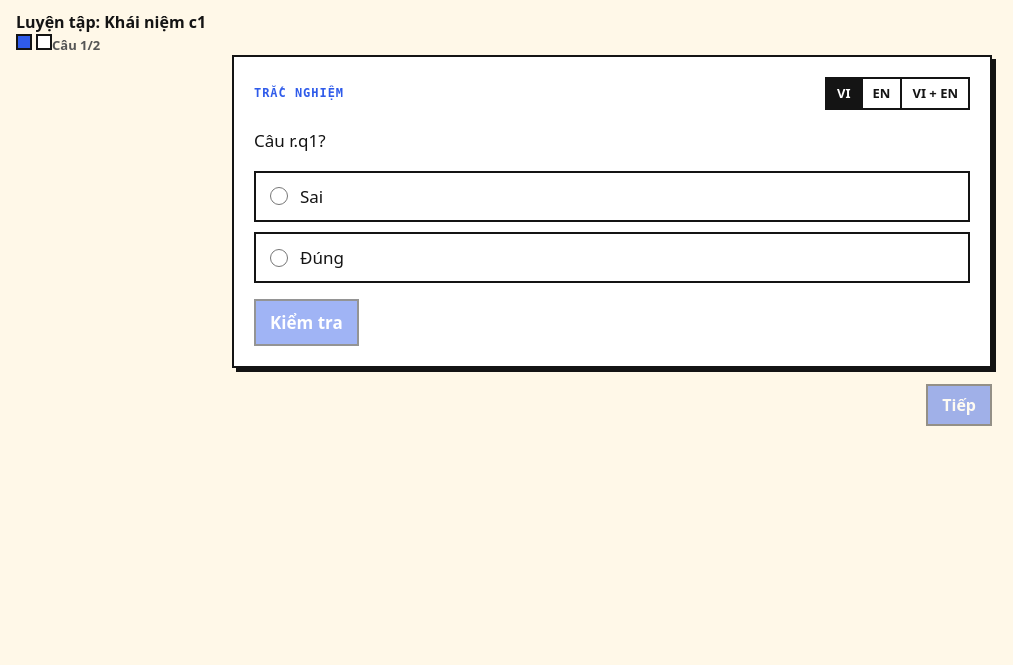
Test: PracticeScreen › a wrong answer in a practice set offers no more practice
Click the radio button labelled "Sai" at (279, 196), box [270,187,288,205]
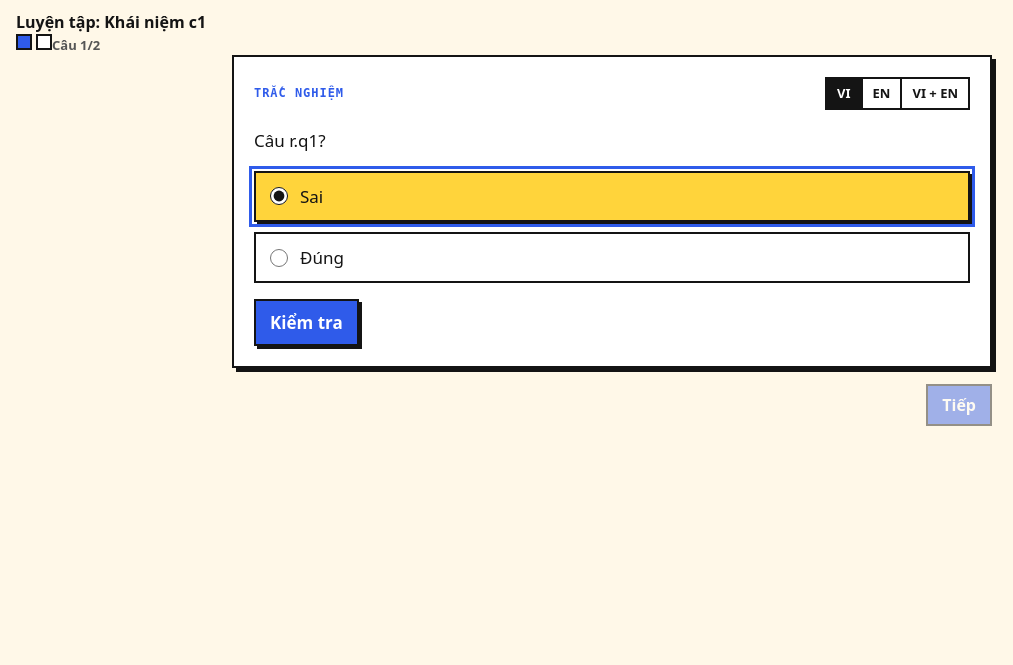
Click the button "Kiểm tra" at (306, 323), box [254,299,359,346]
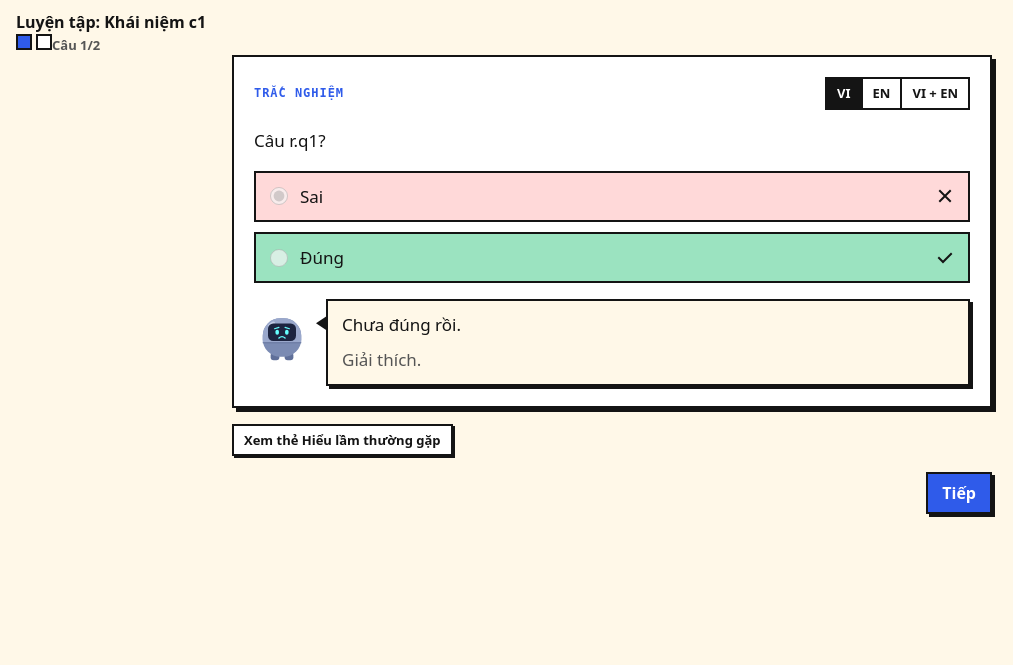
Click the button "Tiếp" at (959, 492), box [926,472,992,514]
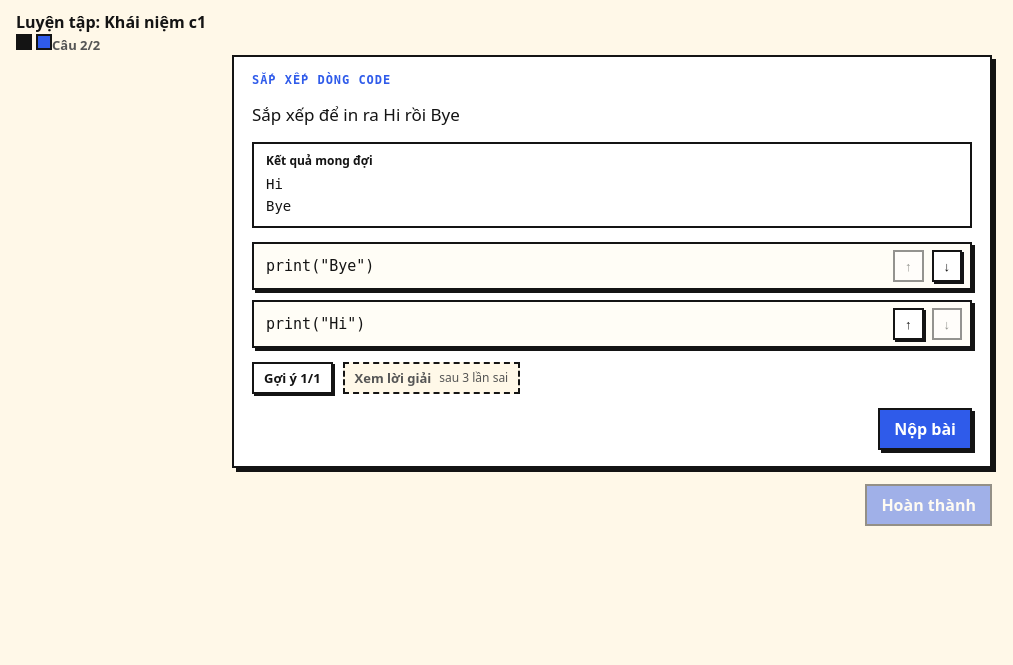
Click the button "Nộp bài" at (925, 429), box [878,408,972,450]
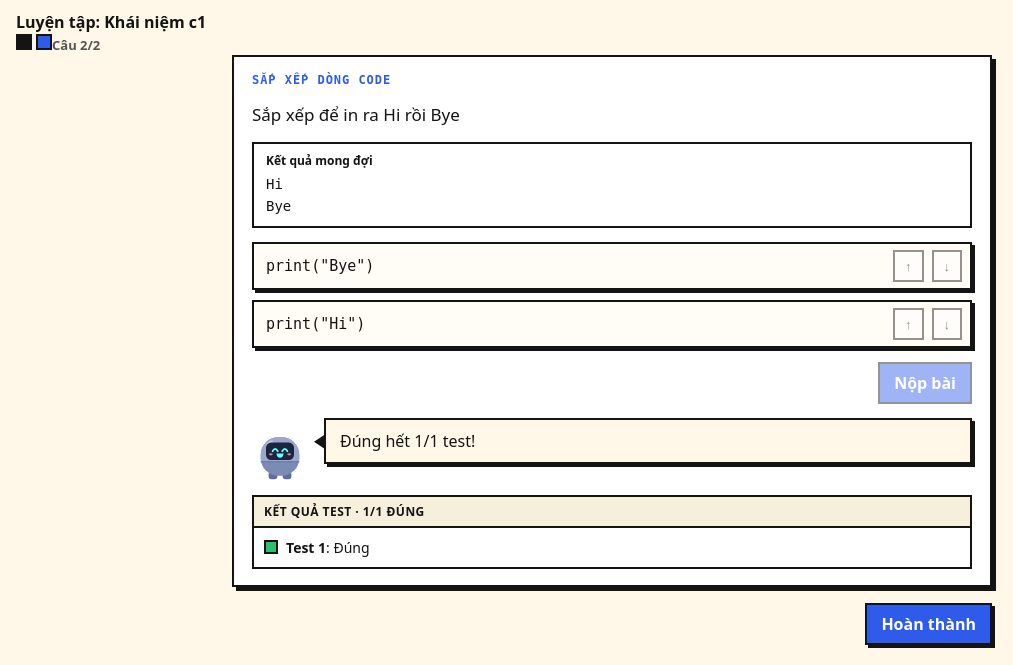
Click the button "Hoàn thành" at (929, 624), box [865,603,992,645]
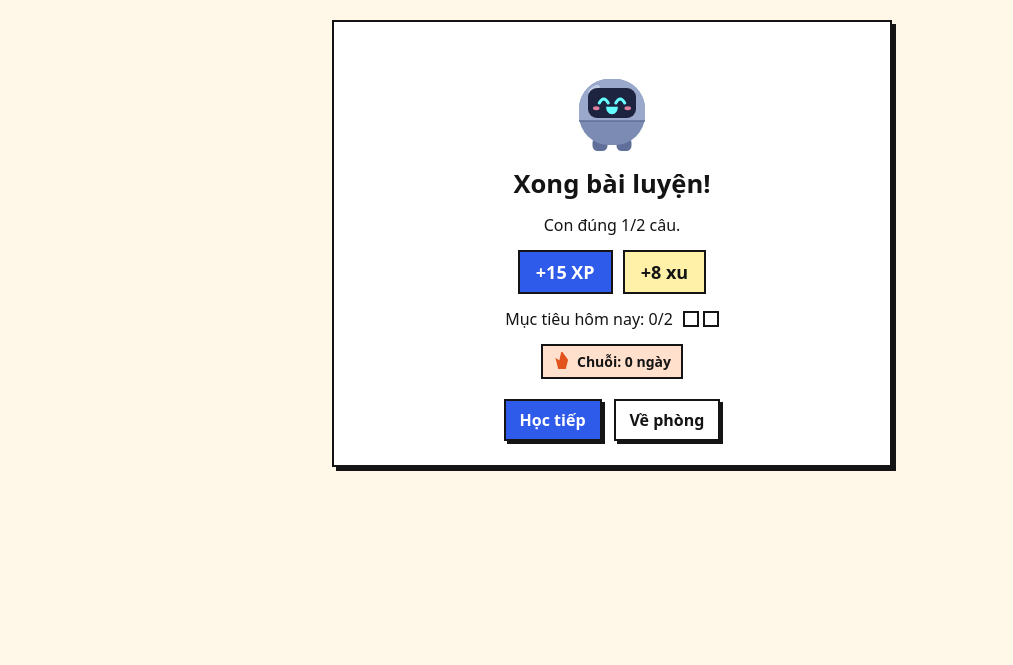
Result: the text "Con đúng 1/2 câu." is shown at [544,214,680,236]
